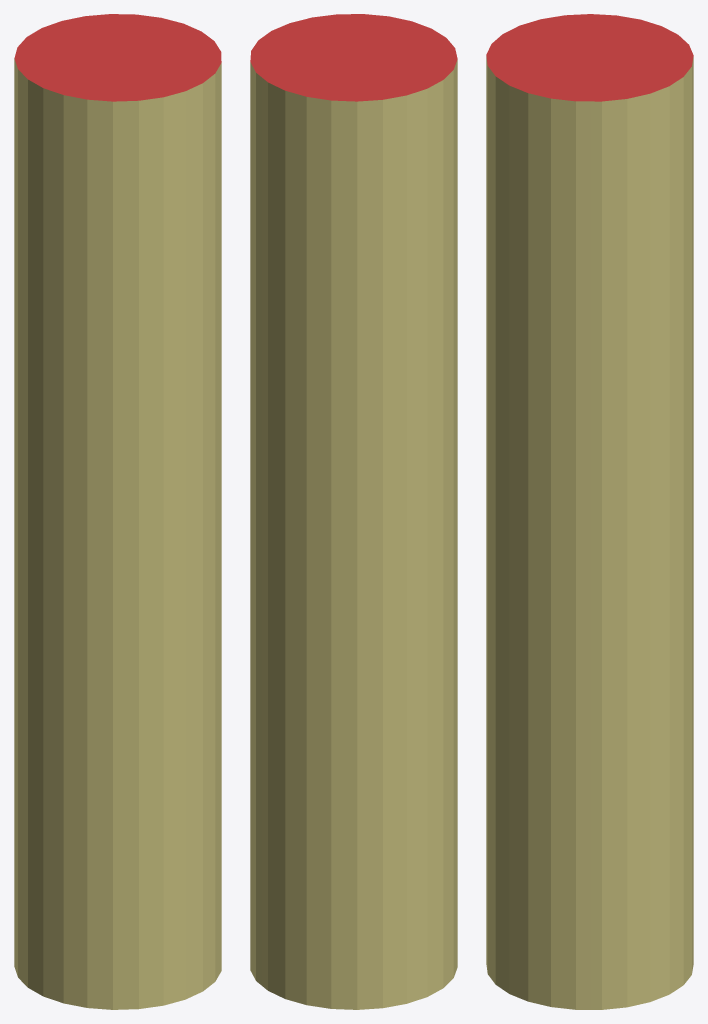
3 renders of one model, left to right at view 1: azimuth 30°, elevation 25°; view 2: azimuth 150°, elevation 25°; view 3: azimuth 270°, elevation 25°, orthographic.
Size of the model in its own units: 3.39 by 3.4 by 16.43.
